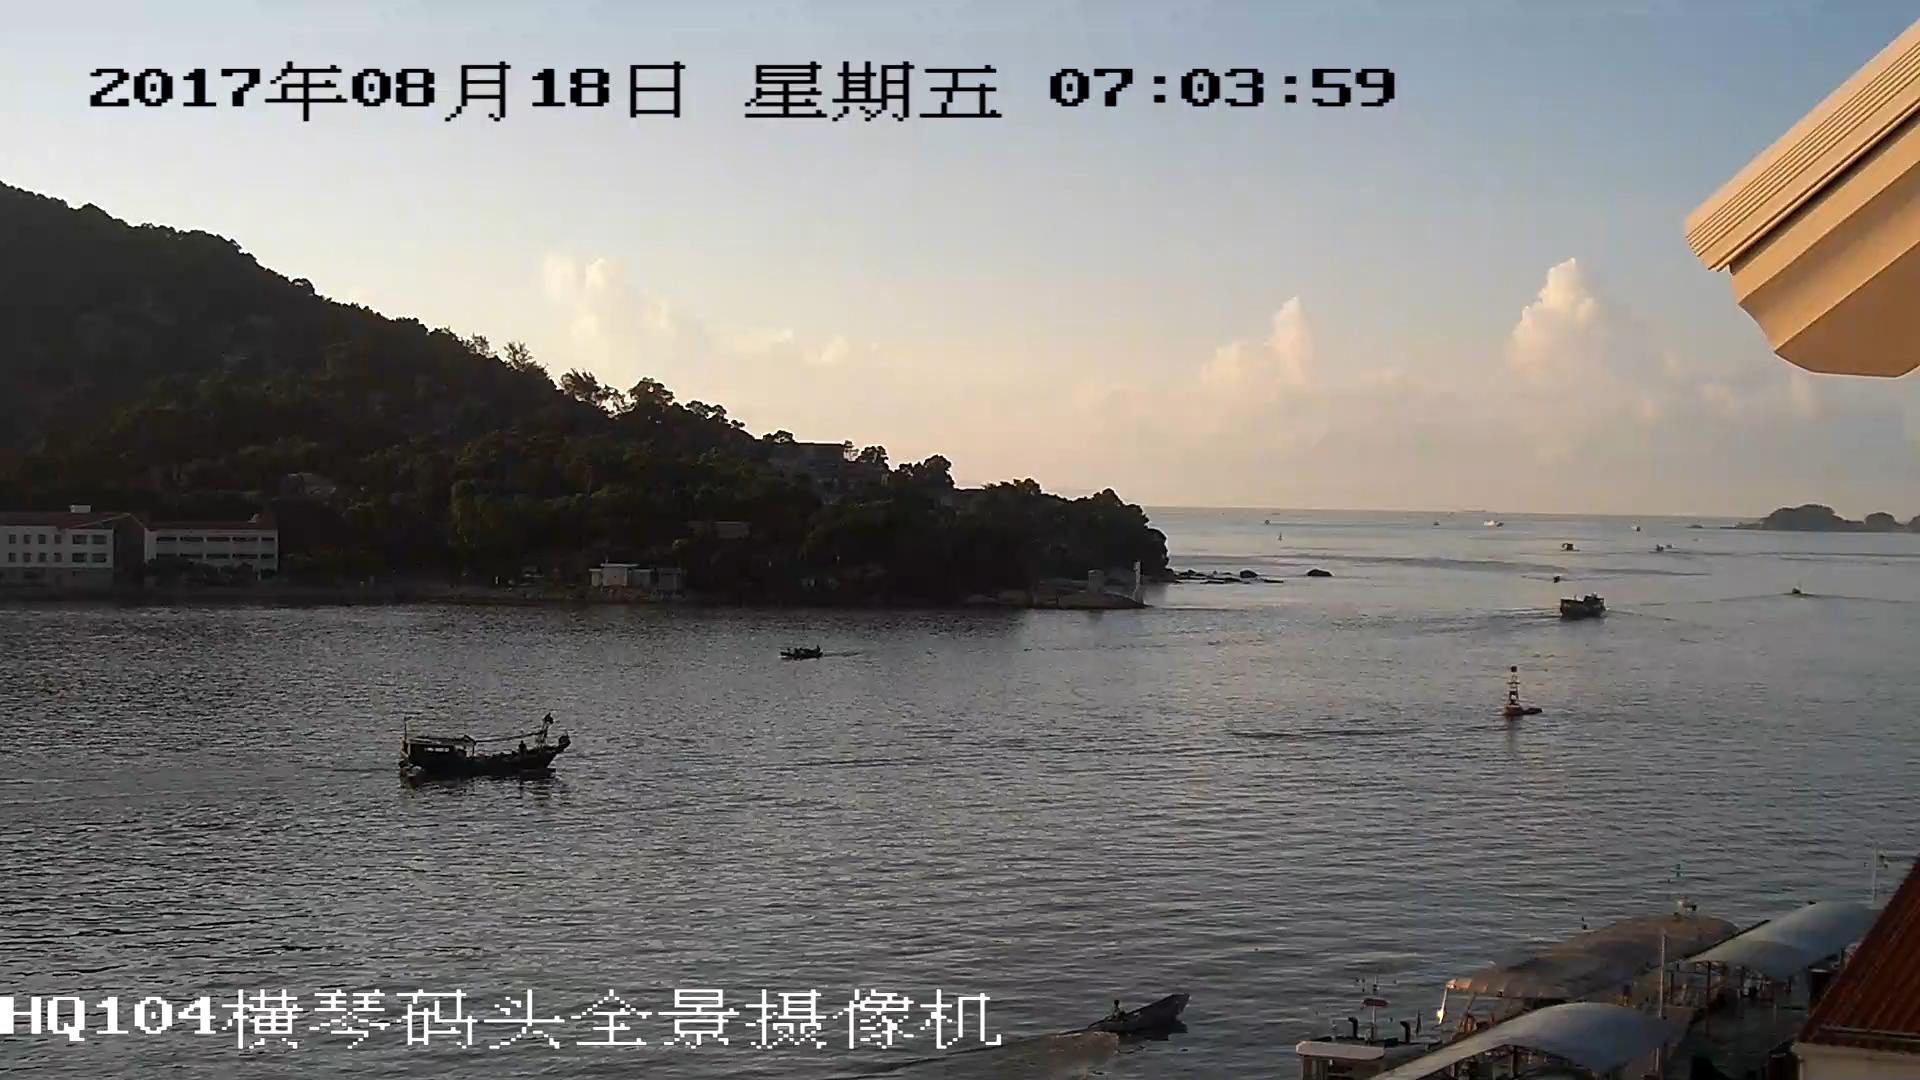fishing boat: (400, 722, 575, 777)
